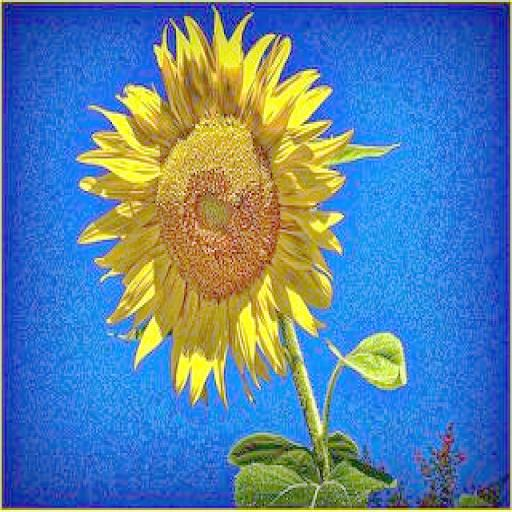sunflower: (77, 10, 382, 408)
